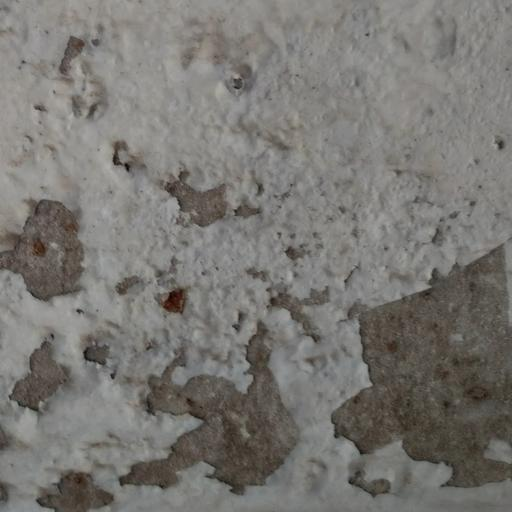peeling: (326, 240, 512, 512), (114, 308, 313, 509), (104, 123, 281, 249), (1, 182, 89, 312), (8, 330, 82, 416), (33, 452, 125, 512)
